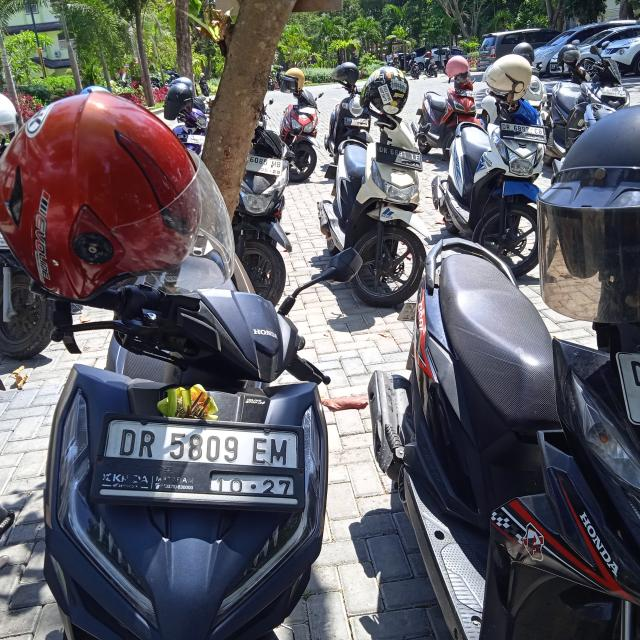plate: (96, 414, 308, 508), (375, 142, 423, 172), (499, 120, 547, 145), (245, 154, 282, 177)
